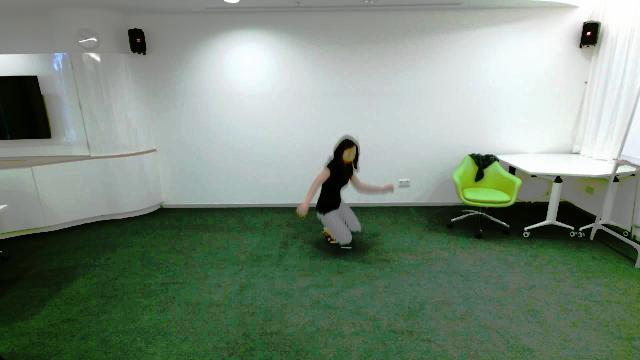jatuh: (293, 130, 395, 252)
